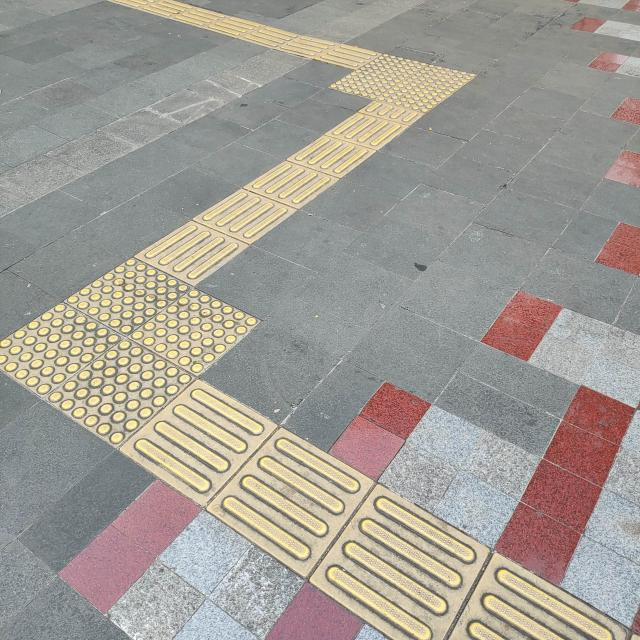kanan: (0, 225, 348, 465)
kiri: (276, 11, 479, 136)
